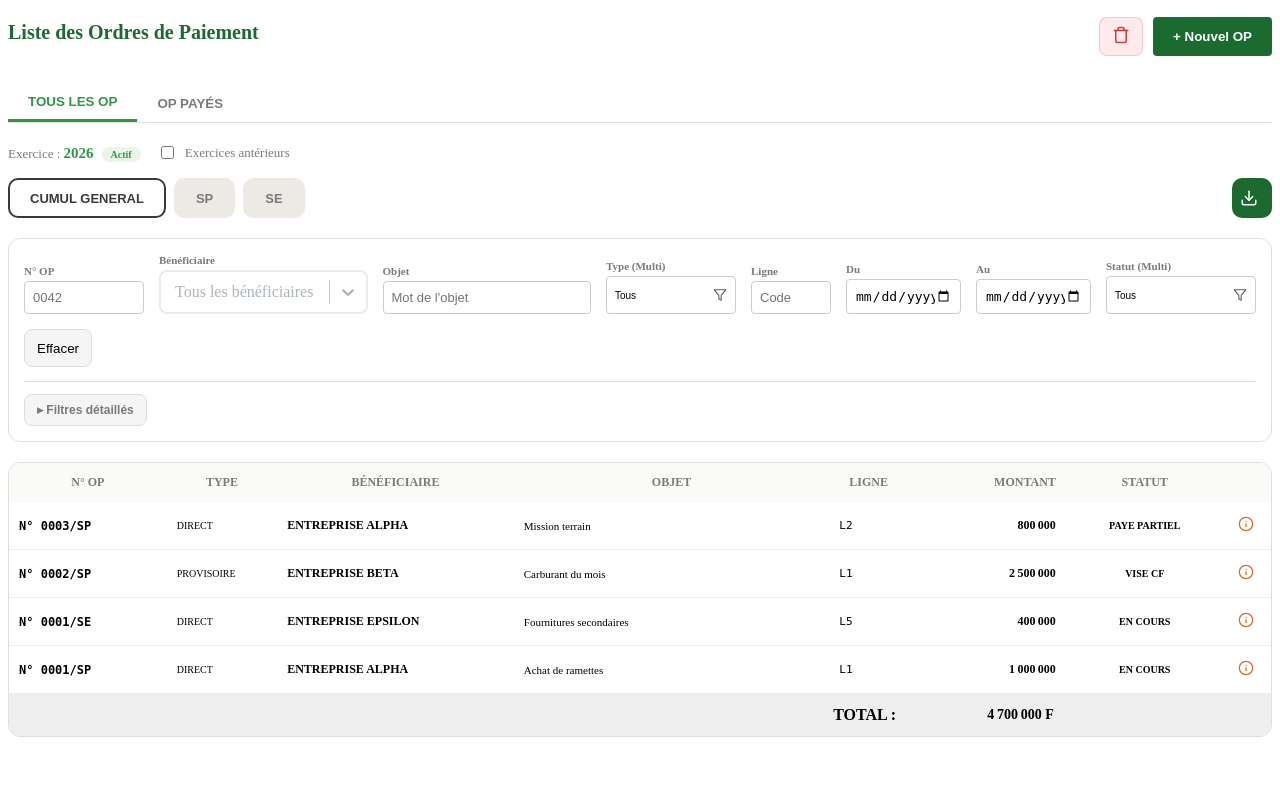
Test: Liste OP — l'aperçu › le ℹ ouvre le suivi détaillé de l'OP
Click the button titled "Suivi détaillé de l'OP N°0002/SP".
click(1246, 574)  # box x1=1234 y1=560 x2=1258 y2=587
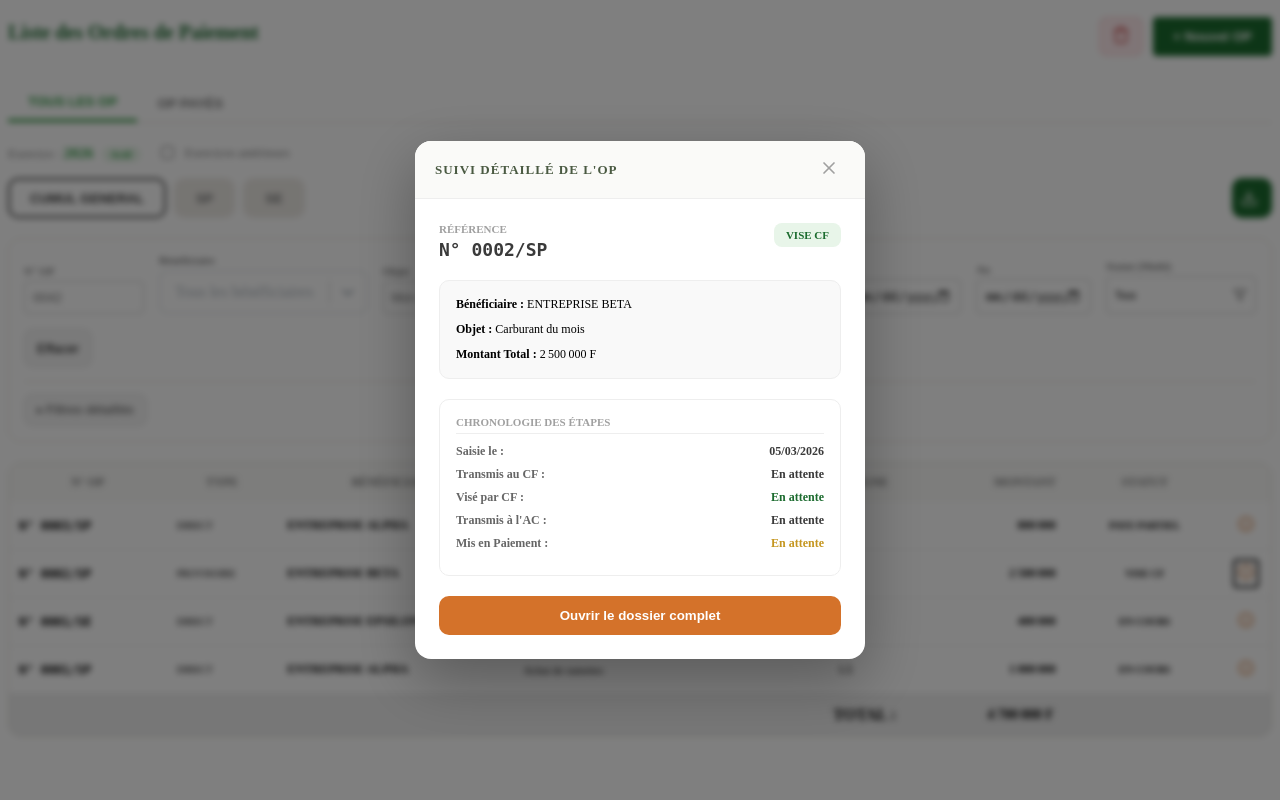
Check: the text "SUIVI DÉTAILLÉ DE L'OP" is shown, box x1=435 y1=162 x2=618 y2=178
Check: the text "CHRONOLOGIE DES ÉTAPES" is shown, box x1=456 y1=416 x2=824 y2=434
